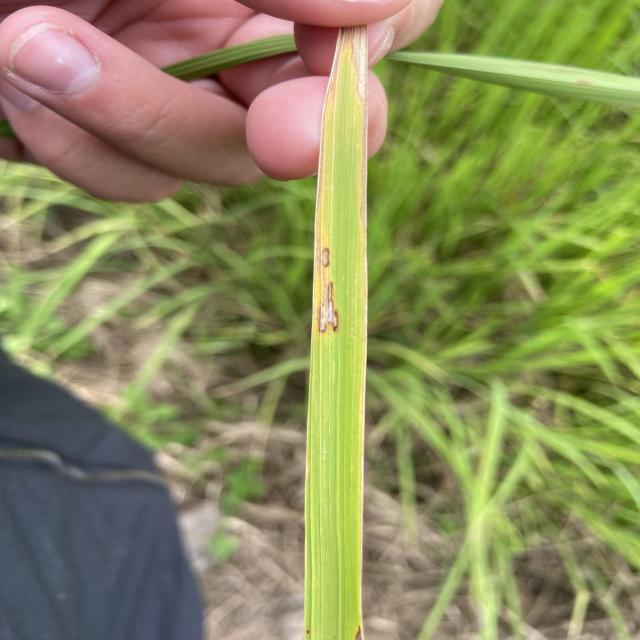Dao on: (317, 278, 340, 333), (318, 247, 331, 269)
